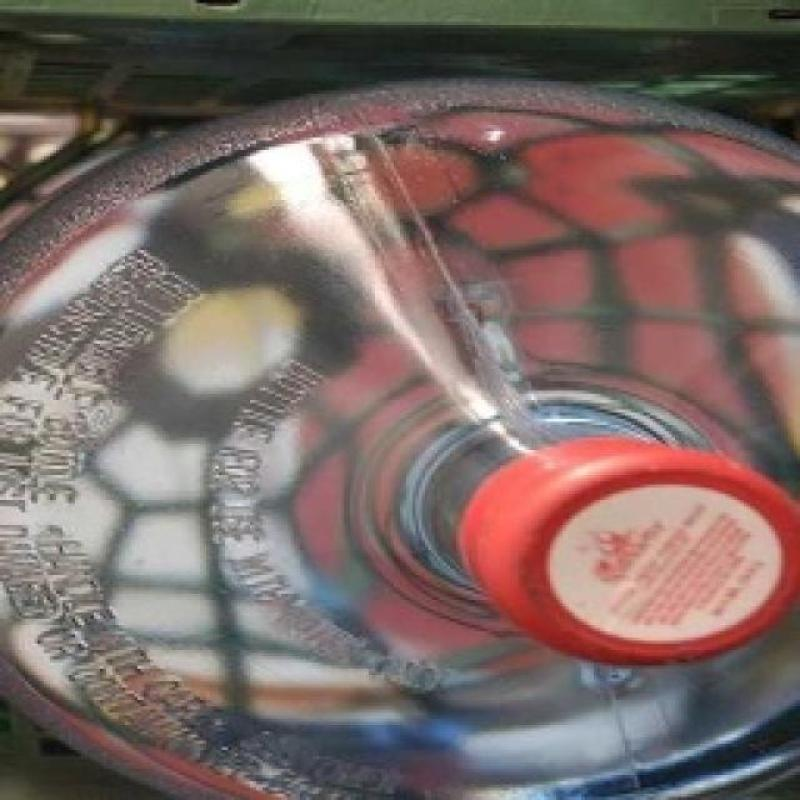botella: (0, 77, 800, 800)
